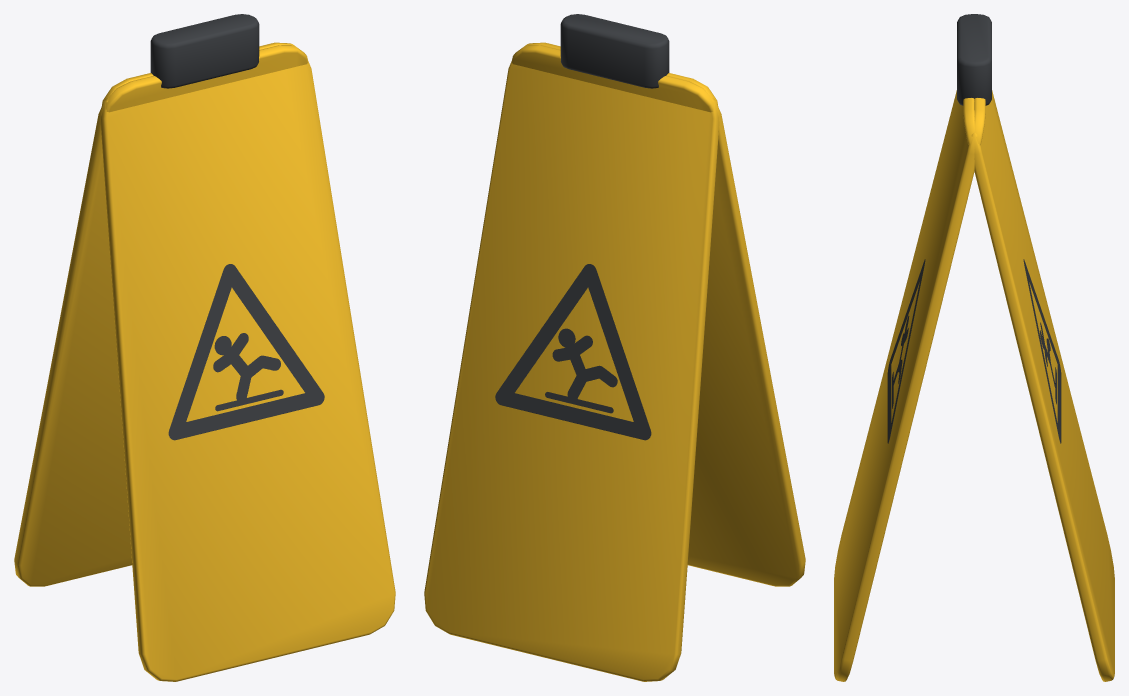
The model's file is panneau_sol_glissant.glb.
The picture shows the model from 3 angles, left to right: view 1: azimuth 30°, elevation 25°; view 2: azimuth 150°, elevation 25°; view 3: azimuth 270°, elevation 25°; orthographic projection.
Parts seen in each view (by area): view 1: PSG_Jaune_Signal, PSG_Picto, PSG_Anthracite; view 2: PSG_Jaune_Signal, PSG_Picto, PSG_Anthracite; view 3: PSG_Jaune_Signal, PSG_Anthracite, PSG_Picto.
Part boxes in pixels (left/top/right/bottom): PSG_Jaune_Signal: left=14, top=42, right=395, bottom=681; PSG_Picto: left=168, top=264, right=324, bottom=440; PSG_Anthracite: left=150, top=14, right=259, bottom=88; PSG_Jaune_Signal: left=424, top=42, right=805, bottom=681; PSG_Picto: left=495, top=264, right=651, bottom=440; PSG_Anthracite: left=560, top=14, right=669, bottom=88; PSG_Jaune_Signal: left=834, top=90, right=1114, bottom=681; PSG_Anthracite: left=957, top=14, right=991, bottom=105; PSG_Picto: left=887, top=259, right=1061, bottom=443.
Size of the model in its own units: 0.2965 by 0.649 by 0.2787.
Materials: 3 (1 with a texture image).
